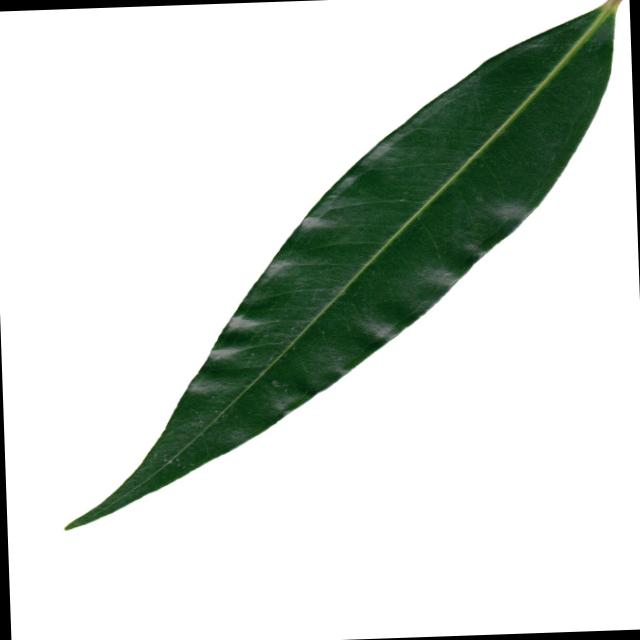Medicinal-Rose Apple: (44, 0, 640, 530)
